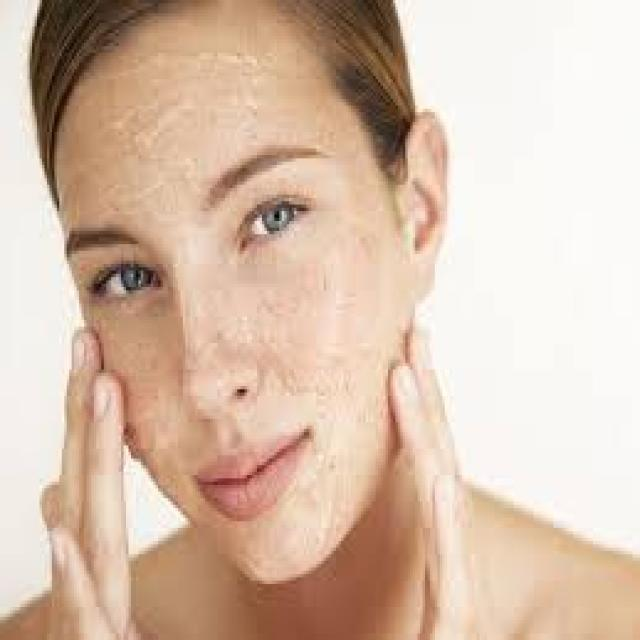Dry-Skin: (104, 63, 205, 184), (124, 368, 191, 477)
